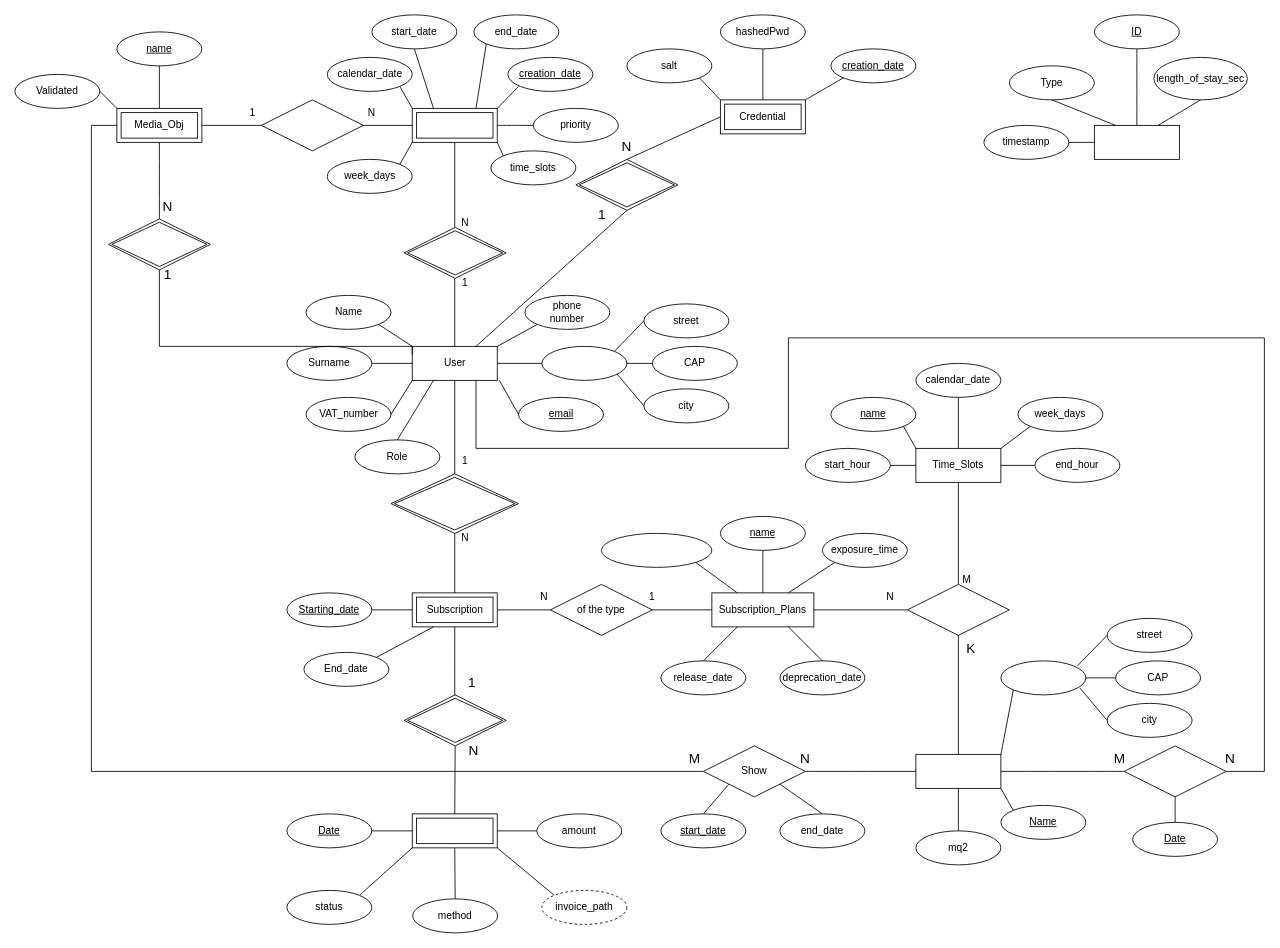
Some shapes in this 1280 by 948 pixel diagram are drawn without their labels. Each missing label, with the centre of its shape:
"address" belongs at (1043,677).
"adress" belongs at (584,363).
"billboard" belongs at (958,771).
"Campaing" belongs at (454,125).
"has" belongs at (626,184).
"Include" belongs at (312,125).
"Override scheduling" belongs at (1174,771).
"Payment" belongs at (454,830).
"Relationship" belongs at (454,720).
"runned_on" belongs at (958,609).
"scheduling_priority" belongs at (656,550).
"Start" belongs at (454,252).
"Subscribe" belongs at (454,503).
"Traffic_Detection" belongs at (1136,142).
"upload" belongs at (159,244).
